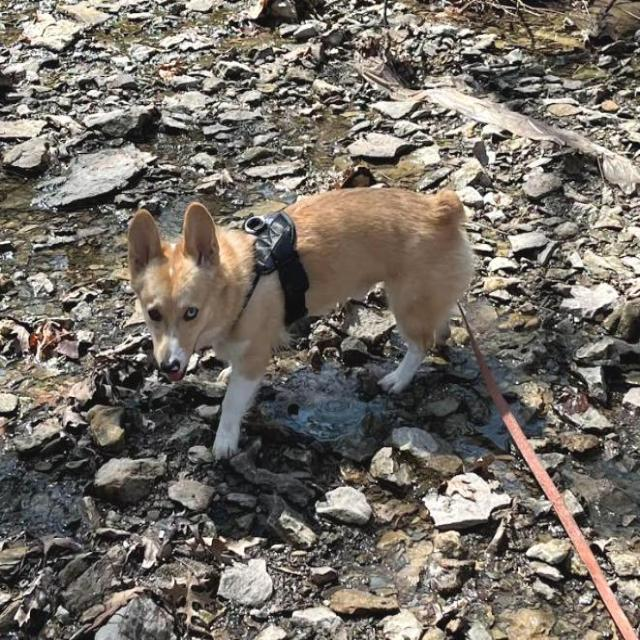corgi_dog: (118, 197, 240, 395)
